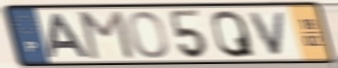5: (166, 8, 211, 61)
A: (48, 12, 93, 59)
M: (78, 9, 137, 61)
O: (126, 10, 171, 60)
Q: (210, 9, 258, 60)
V: (247, 10, 289, 57)
